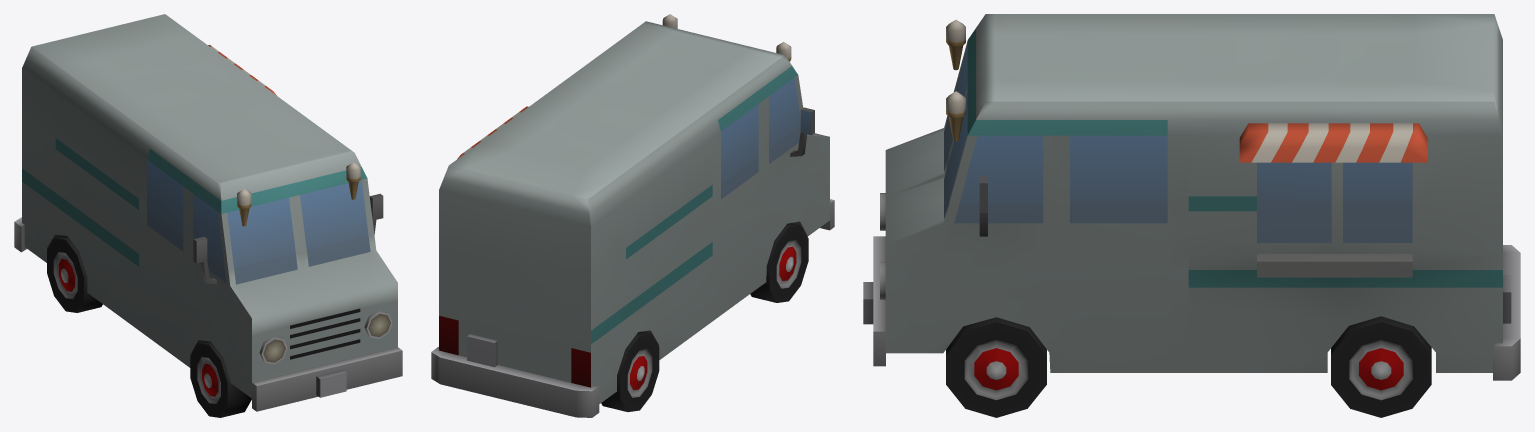
File: vehicles-trucks-vans-food-truck_v1.fbx
3 views of the same model, side by side, from view 1: azimuth 30°, elevation 25°; view 2: azimuth 150°, elevation 25°; view 3: azimuth 270°, elevation 25° (orthographic). The views are drawn at different scales.
Parts seen in each view (by area): view 1: Food Truck; view 2: Food Truck; view 3: Food Truck.
Boxes of the visible parts, x1,y1,x2,y2 form: Food Truck: [14, 14, 402, 417]; Food Truck: [431, 14, 834, 417]; Food Truck: [863, 14, 1520, 417].
Bounding box in the file's own units: 2.86 × 3.42 × 6.5.
